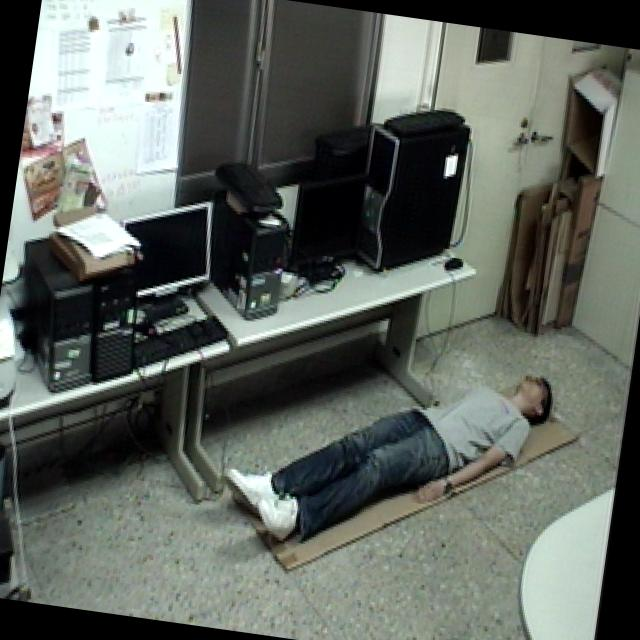lie: (212, 325, 562, 582)
